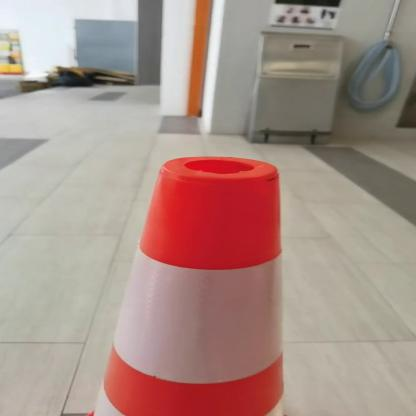cone: (85, 147, 315, 415)
